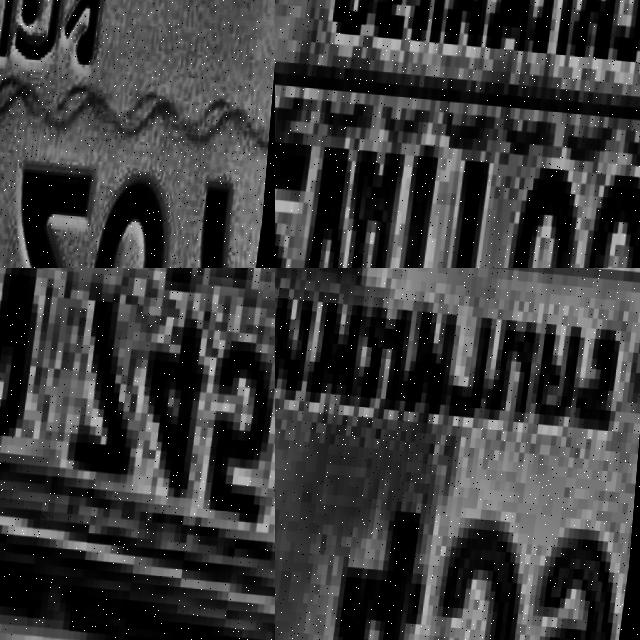license-plate: (275, 268, 640, 640), (0, 268, 275, 640), (275, 0, 640, 268), (0, 0, 275, 268)
